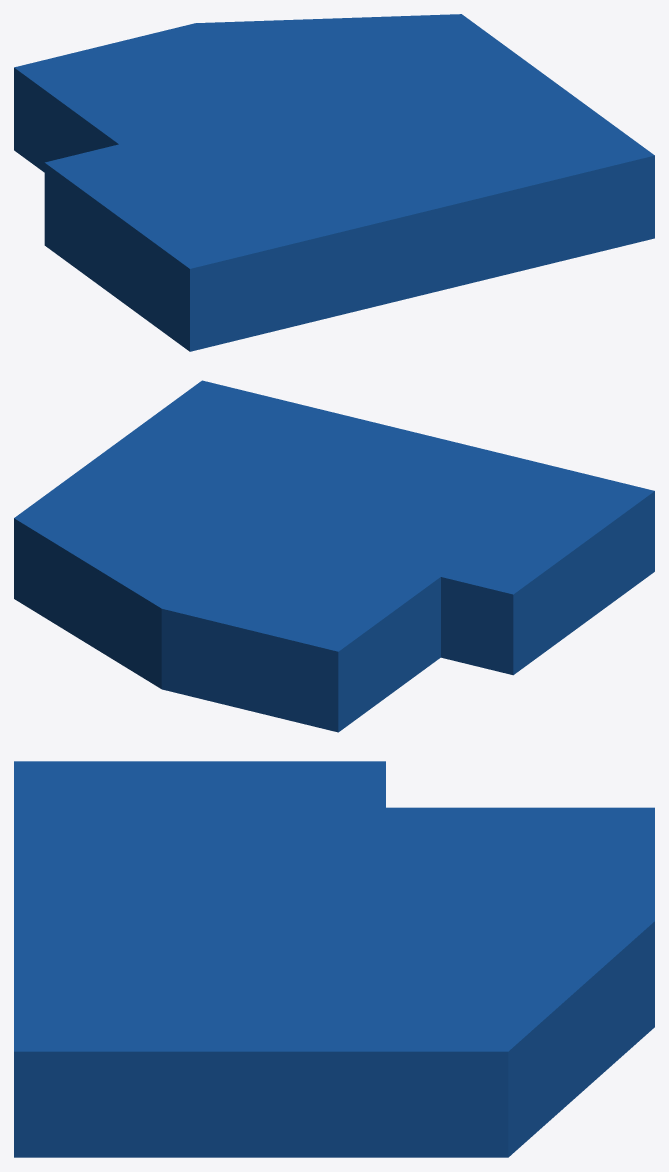
The model's file is Fifth Parallel - Ceiling.dae.
The picture shows the model from 3 angles, top to bottom: view 1: azimuth 30°, elevation 25°; view 2: azimuth 150°, elevation 25°; view 3: azimuth 270°, elevation 25°; orthographic projection. The views are drawn at different scales.
Visible parts, largest first — view 1: 5acd90213074120ec22c5281; view 2: 5acd90213074120ec22c5281; view 3: 5acd90213074120ec22c5281.
Boxes of the visible parts, <box> form: 5acd90213074120ec22c5281: <box>14,14,654,351</box>; 5acd90213074120ec22c5281: <box>14,380,654,732</box>; 5acd90213074120ec22c5281: <box>14,761,654,1157</box>.
Bounding box in the file's own units: 12.52 × 11.68 × 2.13.
